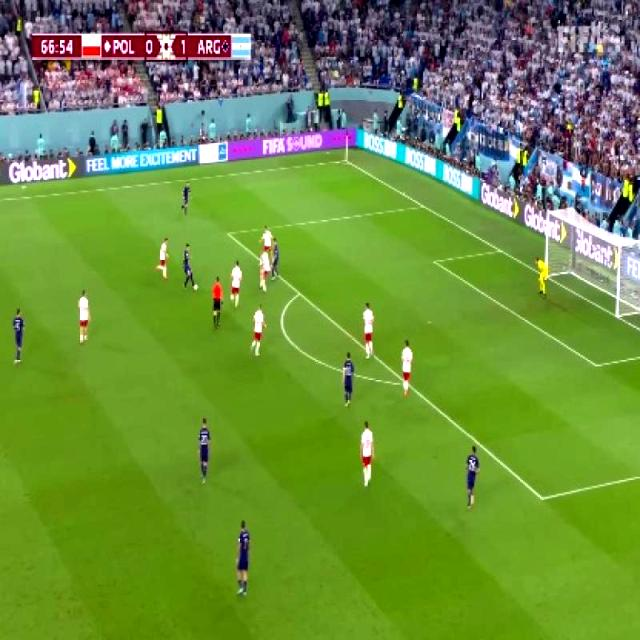bigarea_bottom_inner: (531, 483, 551, 509)
bigarea_top_inner: (220, 223, 235, 242)
bigarea_top_outter: (415, 198, 430, 212)
corner: (338, 154, 352, 166)
smallarea_bottom_inner: (586, 351, 604, 377)
smallarea_top_inner: (426, 252, 442, 270)
smallarea_top_outter: (492, 240, 506, 258)
top_arc_area_intersection: (292, 283, 306, 302)
